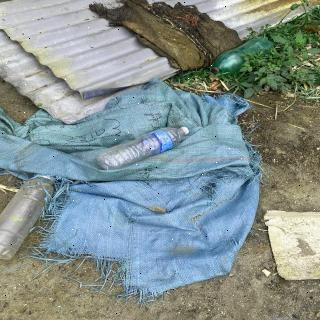Plastic-bottle: (94, 123, 193, 173), (208, 30, 281, 78)
